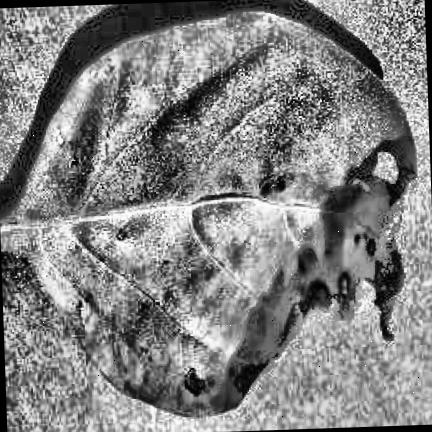leaf: (0, 0, 414, 416)
